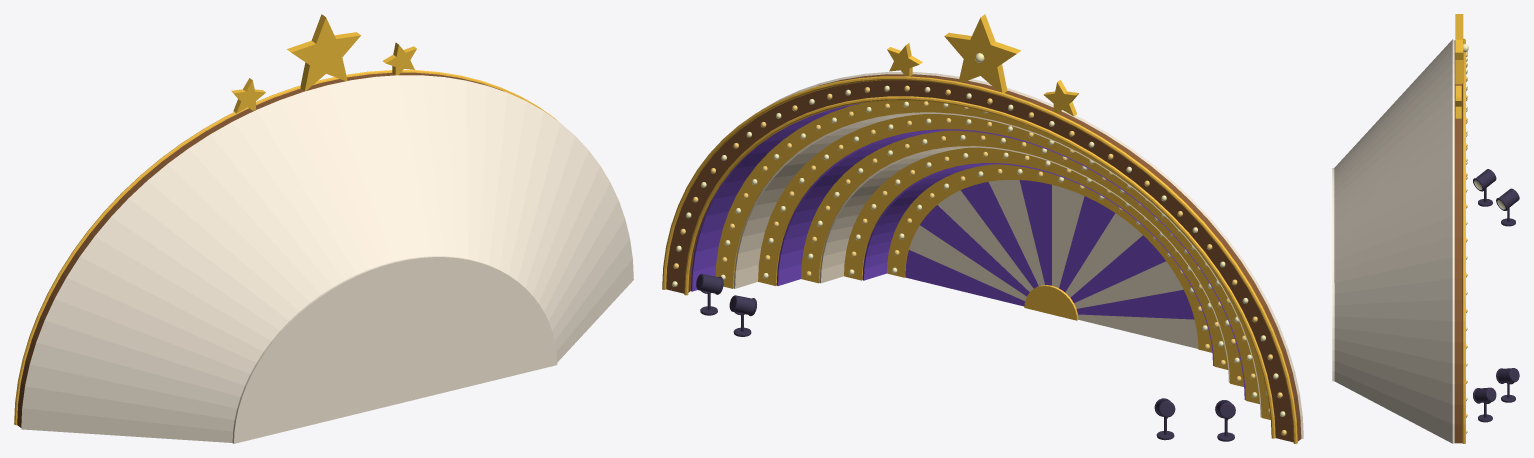
Rendered from PumpBandshell.obj.
3 views of the same model, side by side, from view 1: azimuth 30°, elevation 25°; view 2: azimuth 150°, elevation 25°; view 3: azimuth 270°, elevation 25° (orthographic). The views are drawn at different scales.
Parts seen in each view (by area): view 1: Facade, Crest, Frame, Steps; view 2: Steps, ShellA, ShellB, Frame, Crest, BulbsA, BulbsB, Cans, Facade; view 3: Facade, Frame, Cans, Steps, Crest.
Part boxes in pixels (box(x1,y1,x2,y2)): Facade: box(21, 75, 633, 443); Crest: box(231, 14, 416, 113); Frame: box(17, 72, 503, 427); Steps: box(14, 70, 557, 425); Steps: box(662, 76, 1297, 443); ShellA: box(691, 103, 1245, 399); ShellB: box(733, 112, 1261, 417); Frame: box(666, 74, 1301, 442); Crest: box(887, 14, 1078, 116); BulbsA: box(672, 53, 1285, 416); BulbsB: box(673, 85, 1286, 435); Cans: box(696, 274, 1235, 441); Facade: box(760, 72, 1303, 438); Facade: box(1332, 39, 1454, 443); Frame: box(1454, 40, 1462, 443); Cans: box(1473, 169, 1519, 422); Steps: box(1462, 38, 1465, 443); Crest: box(1455, 14, 1463, 118).
Size of the model in its own units: 108 by 56.67 by 32.32.
